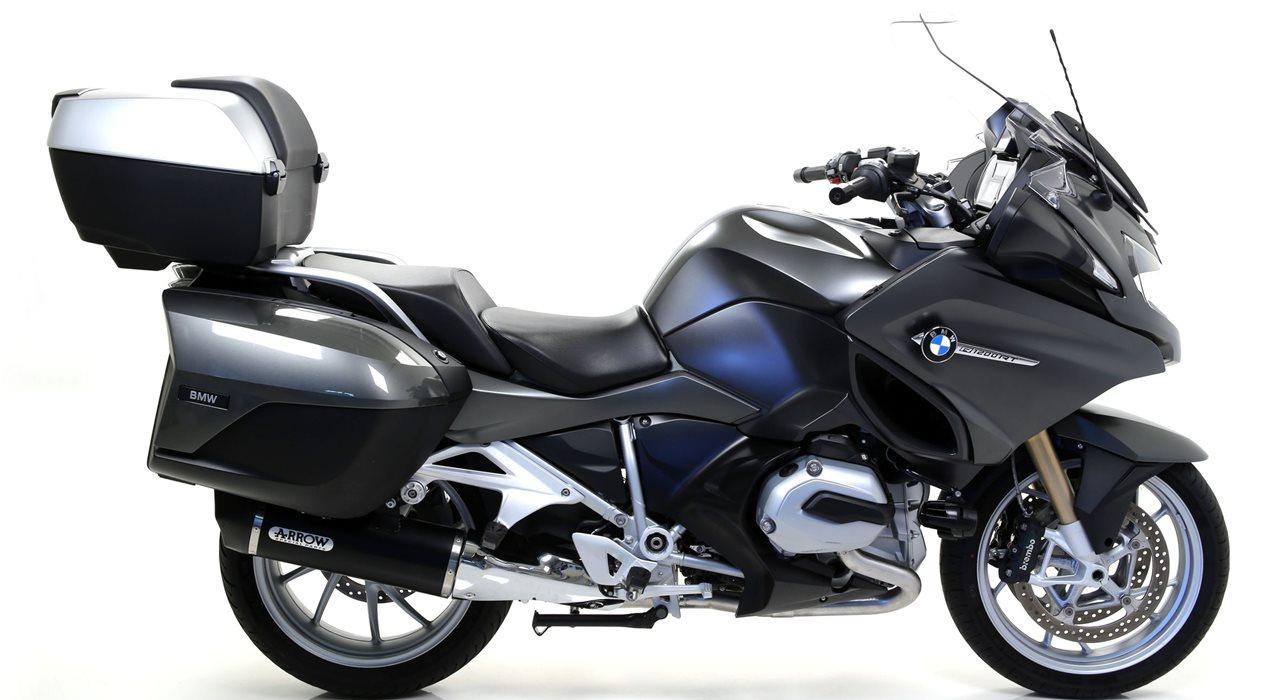engine-chasis: (532, 300, 984, 637)
exhaust: (214, 489, 653, 611), (760, 548, 922, 618), (678, 582, 744, 614)
frontside: (834, 9, 1209, 589)
handlebar: (792, 123, 1020, 232)
motorbike: (46, 74, 1231, 697)
rearside: (45, 75, 768, 556)
seat: (301, 253, 671, 395)
tank: (641, 203, 900, 342)
wheel: (939, 453, 1231, 699), (219, 534, 514, 699), (1010, 452, 1034, 515)
